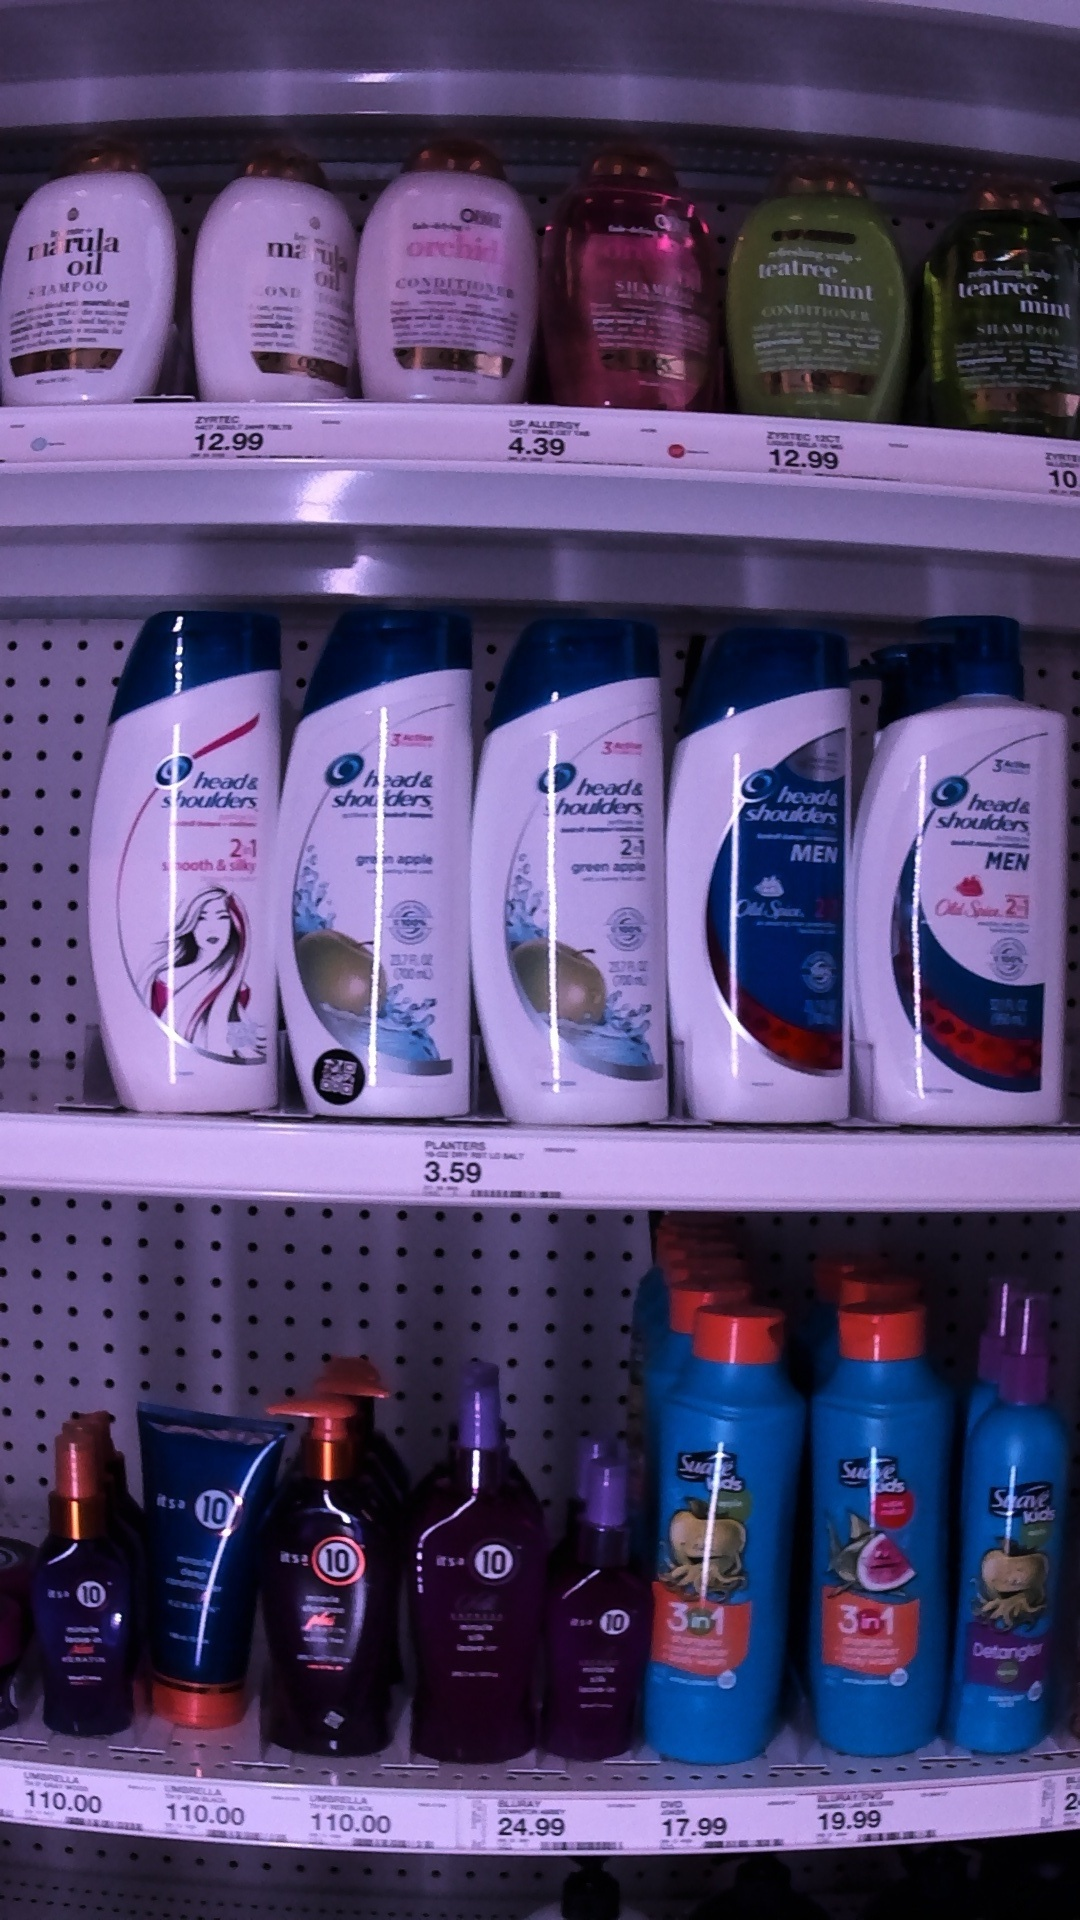ptag: (411, 1131, 575, 1211), (489, 1778, 624, 1873), (182, 396, 357, 465), (649, 1784, 793, 1866), (814, 1775, 960, 1851), (162, 1768, 286, 1855), (309, 1782, 433, 1866), (18, 1760, 144, 1842), (749, 413, 884, 487), (495, 404, 632, 475)
